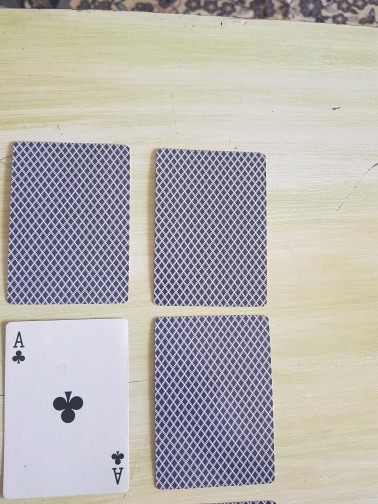ace: (2, 317, 131, 499)
